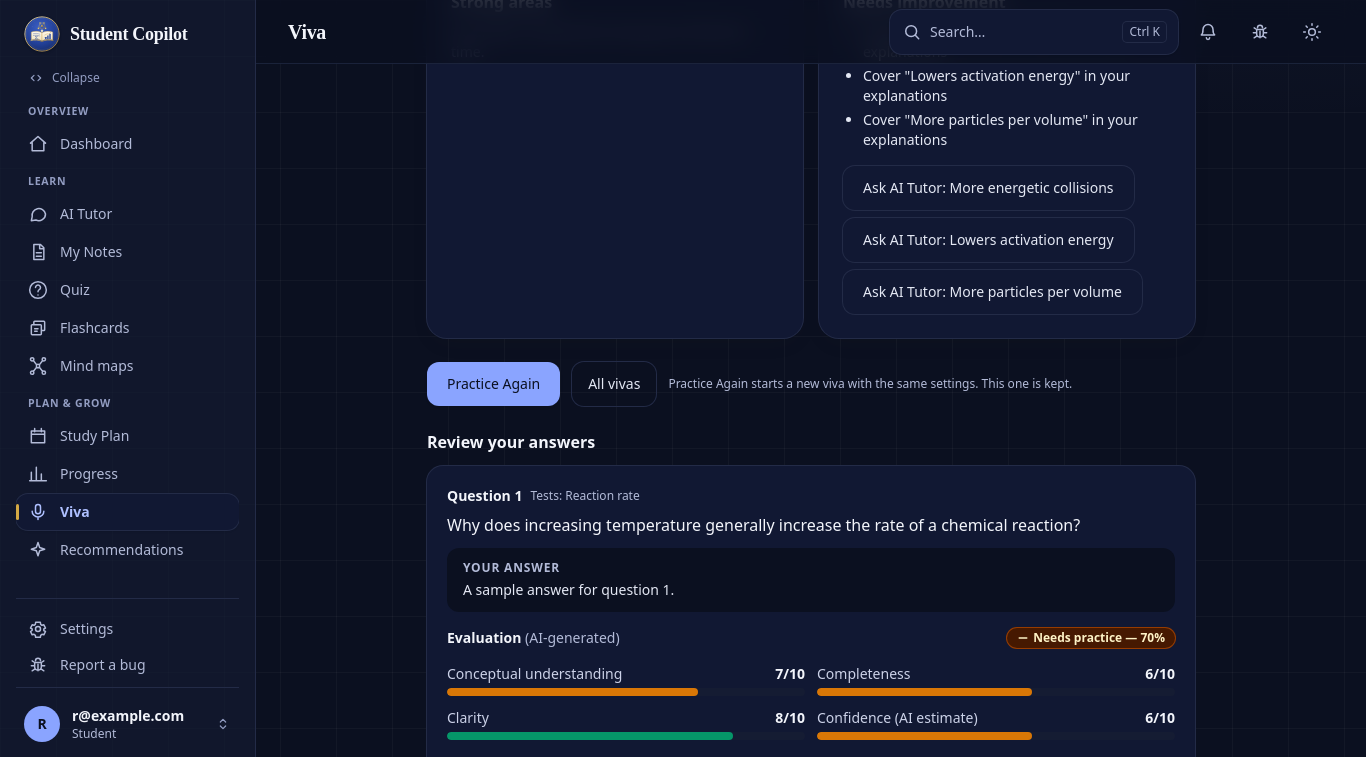
a complete viva › Practice Again creates a NEW viva with the same settings and keeps the old one
(page scrolled)
Click the button "Practice Again" at (494, 384), box top-left (427, 362), bottom-right (560, 406)
(page scrolled)
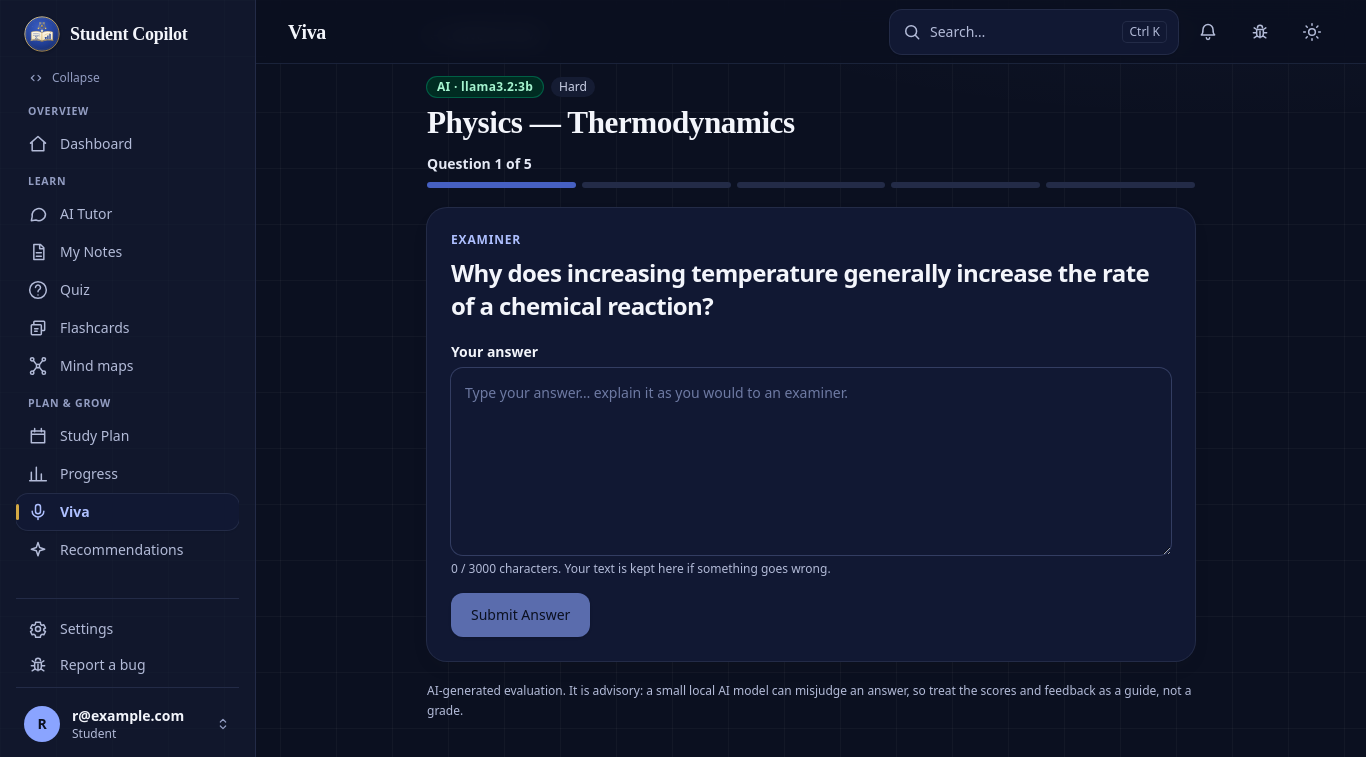
Now the text "Question 1 of 5" is shown, box top-left (427, 154), bottom-right (532, 173)
